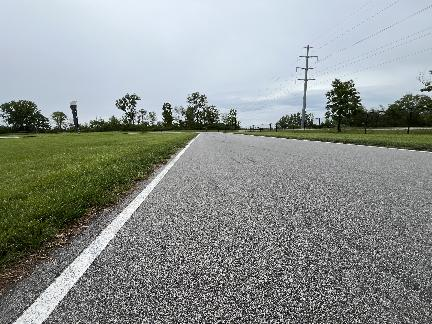Grass: (0, 133, 196, 292), (235, 131, 431, 150)
Lane: (45, 133, 431, 323)
